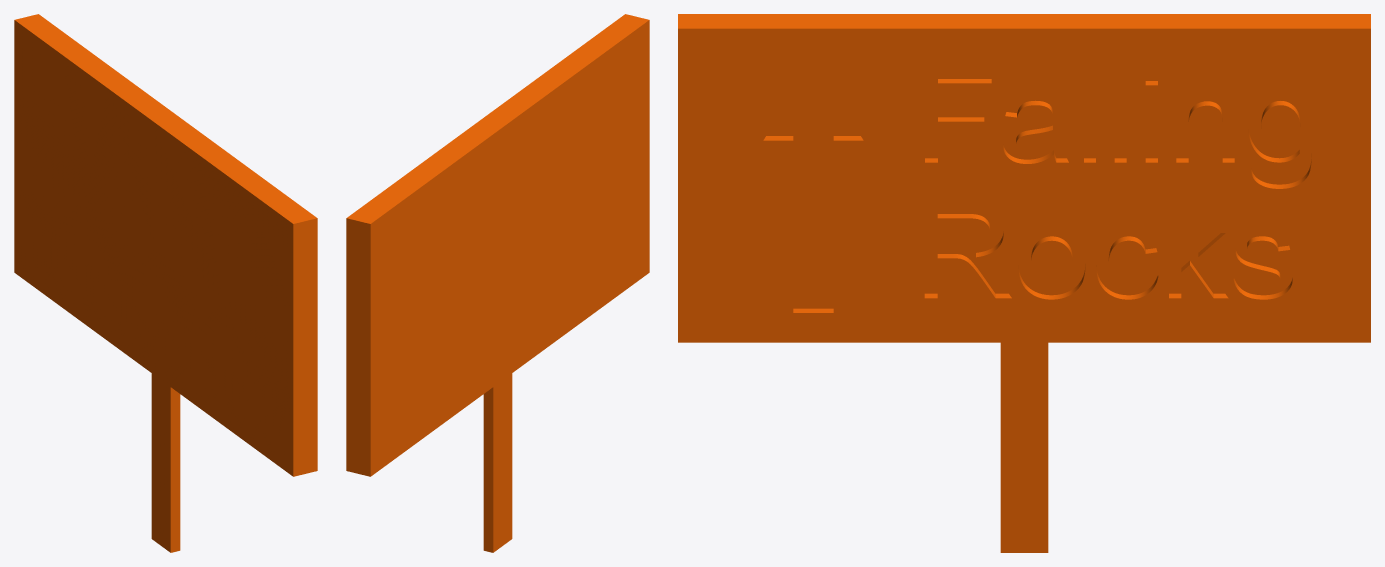
Rendered from sign 1.fbx.
3 renders of one model, left to right at view 1: azimuth 30°, elevation 25°; view 2: azimuth 150°, elevation 25°; view 3: azimuth 270°, elevation 25°, orthographic. The views are drawn at different scales.
Visible parts, largest first — view 1: Signs; view 2: Signs; view 3: Signs.
Part boxes in pixels (bbox=[...]): Signs: bbox=[14, 14, 317, 552]; Signs: bbox=[346, 14, 649, 552]; Signs: bbox=[678, 14, 1370, 552].
Bounding box in the file's own units: 54.12 × 1082 × 911.
